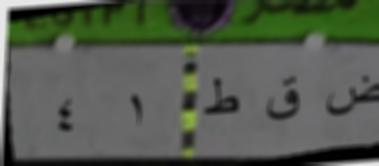1: (120, 86, 154, 134)
4: (51, 95, 80, 141)
Taa: (200, 74, 241, 120)
daad: (322, 74, 379, 120)
qaaf: (262, 74, 305, 123)
